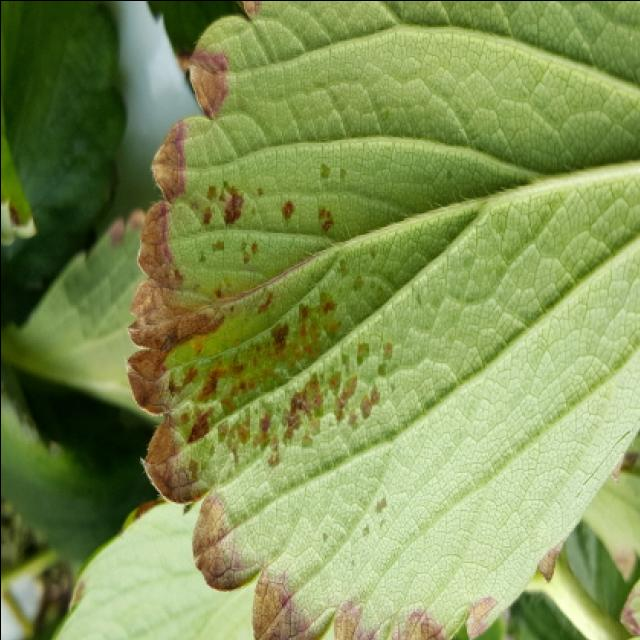Angular Leafspot: (135, 144, 405, 572)
